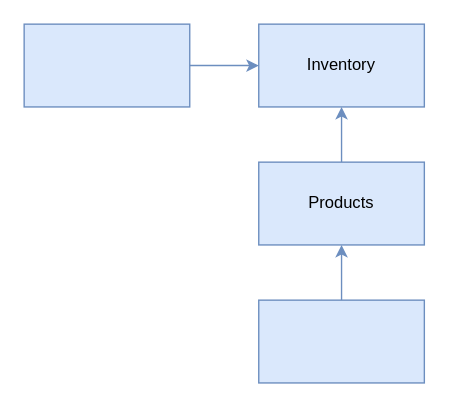
Image size: 449x407. Some labels were removed from this diagram. Here are the shapes that lost their labels. From the top down, the centre of each, then its label:
At pixel 106 65: "Werehouses".
At pixel 340 341: "Categories".
